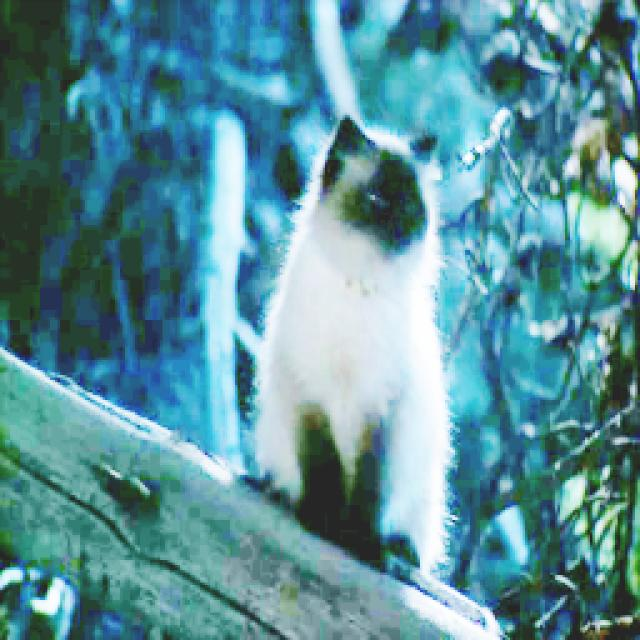cat: (241, 106, 465, 583)
